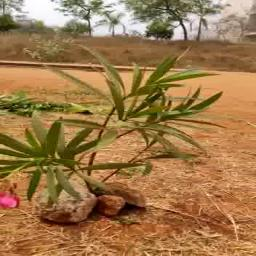OLEANDER: (0, 44, 221, 194)
